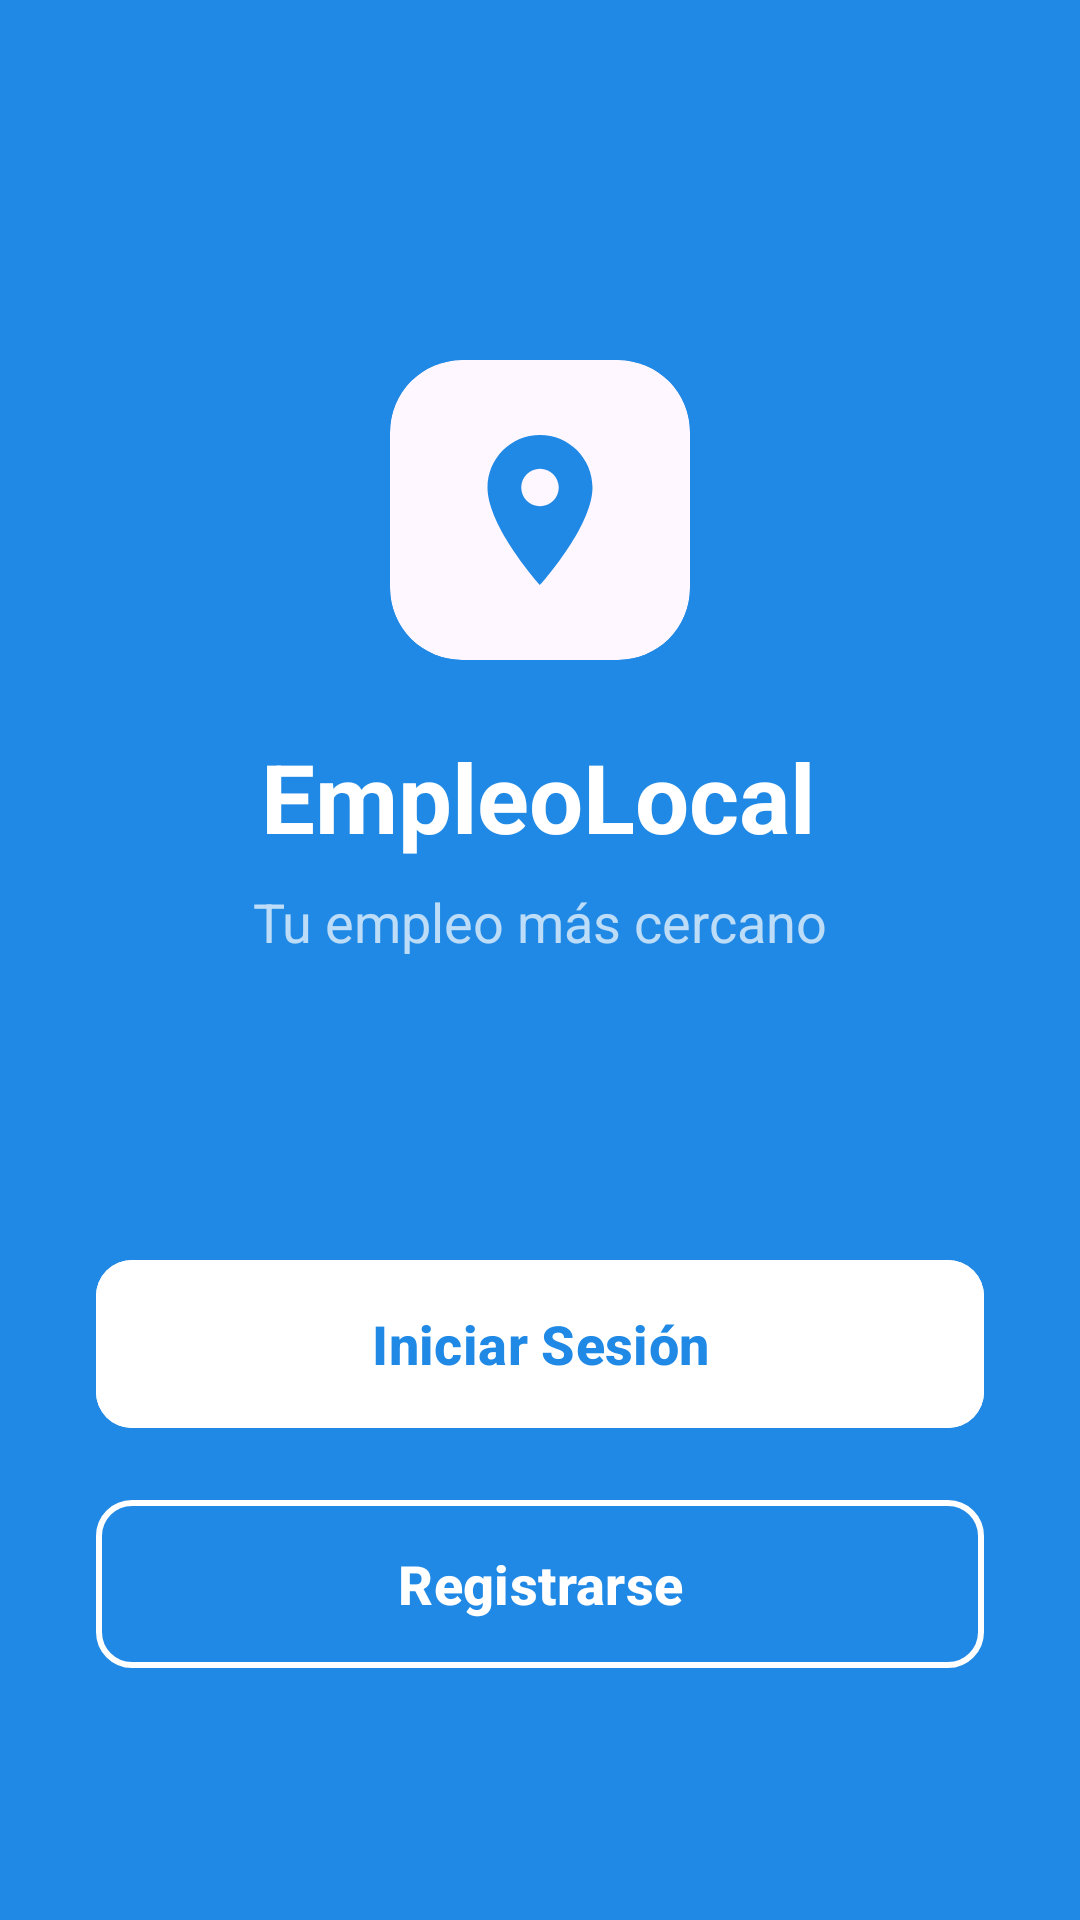

Named icons in this screenshot (1080w x 1920h) and their centers, (x,y):
location: (540,510)
